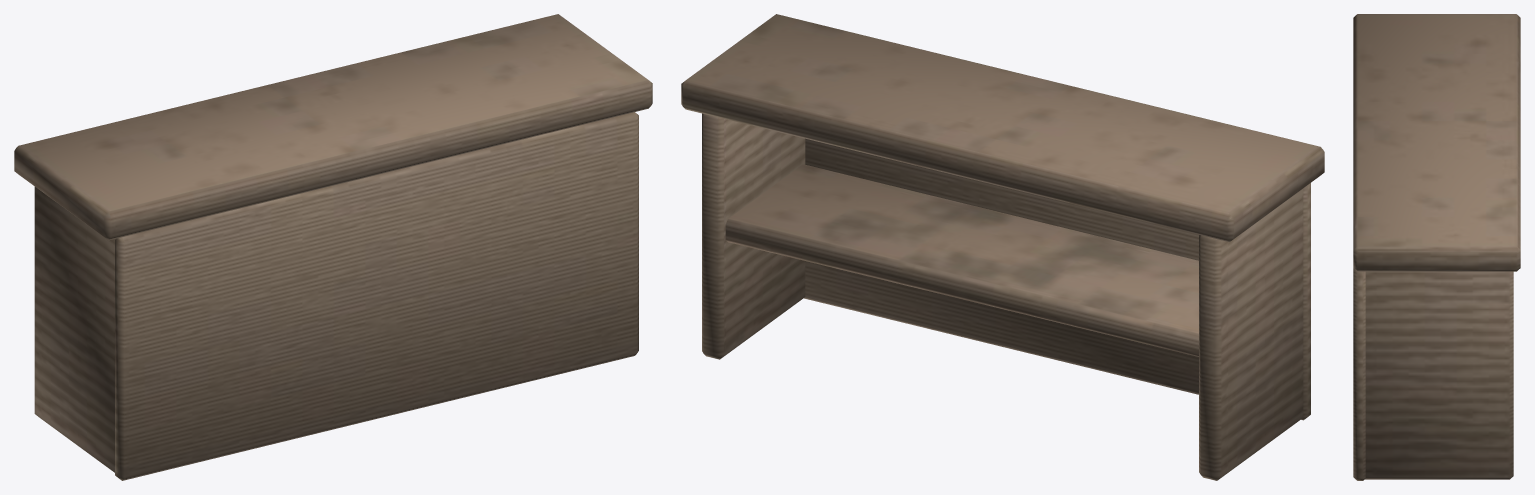
Rendered from sideboard.glb.
3 views of the same model, side by side, from view 1: azimuth 30°, elevation 25°; view 2: azimuth 150°, elevation 25°; view 3: azimuth 270°, elevation 25° (orthographic). The views are drawn at different scales.
Parts seen in each view (by area): view 1: sideboard; view 2: sideboard; view 3: sideboard.
Boxes of the visible parts, x1=… form: sideboard: x1=14, y1=14, x2=652, y2=480; sideboard: x1=681, y1=14, x2=1324, y2=480; sideboard: x1=1353, y1=14, x2=1520, y2=480.
Bounding box in the file's own units: 2 × 0.95 × 0.6.
1 material, 1 textured.
